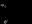person: (1, 3, 6, 10), (1, 21, 8, 23)
